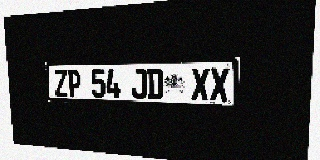4: (105, 69, 121, 98)
5: (91, 69, 106, 98)
D: (147, 68, 163, 99)
J: (131, 69, 147, 99)
P: (67, 69, 81, 97)
X: (191, 68, 210, 101), (210, 68, 229, 101)
Z: (54, 69, 68, 97)
